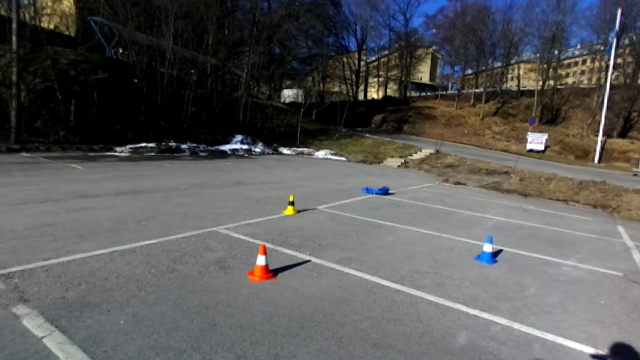blue: (473, 235, 498, 266)
orange: (246, 245, 276, 283)
yellow: (282, 194, 298, 216)
